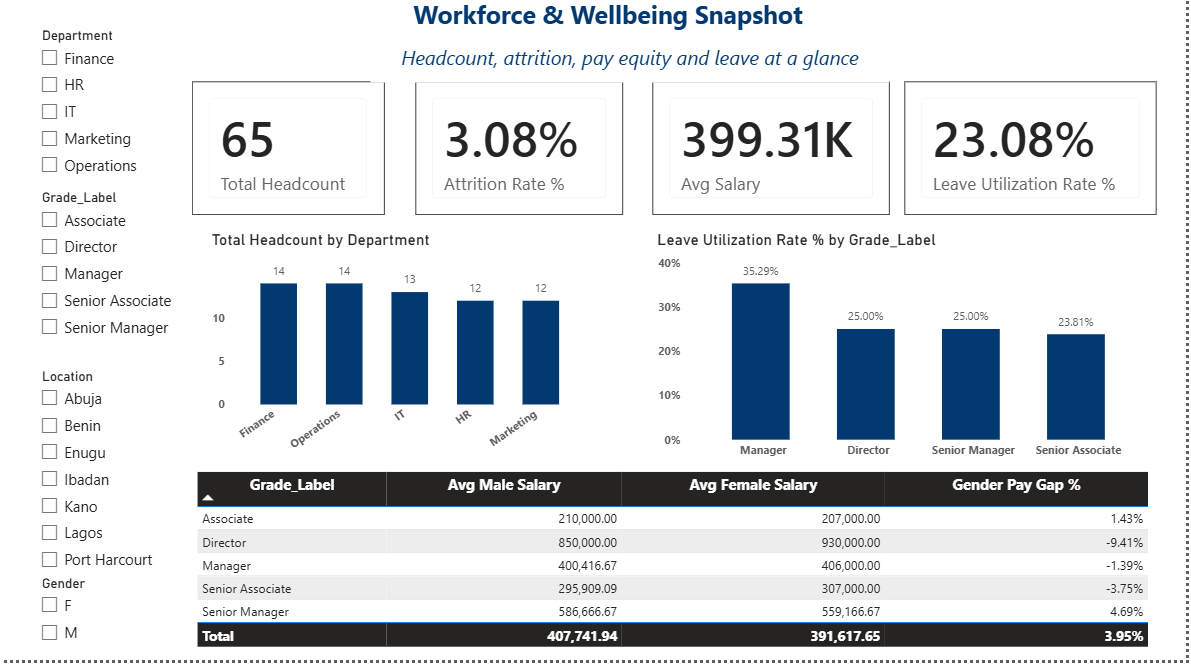

What the dashboard file says about the page in this screenshot:
{"tool":"powerbi","page":{"name":"Snapshot","canvas":[1280,720],"ordinal":0},"visuals":[{"type":"cardVisual","fields":{"Data":["Measure.Total Headcount"]},"box":[272,96,208,144],"z":0},{"type":"clusteredColumnChart","fields":{"Y":["Measure.Exhausted Rate %"],"Category":["Staff_Records.Grade_Label"]},"box":[704,256,544,256],"z":1000},{"type":"clusteredColumnChart","fields":{"Category":["Staff_Records.Department"],"Y":["Measure.Total Headcount"]},"box":[272,256,416,256],"z":2000},{"type":"tableEx","fields":{"Values":["Staff_Records.Grade_Label","Measure.Avg Male Salary","Measure.Avg Female Salary","Measure.Gender Pay Gap %"]},"box":[272,512,976,208],"z":3000},{"type":"cardVisual","fields":{"Data":["Measure.Attrition Rate %"]},"box":[496,96,192,144],"z":4000},{"type":"cardVisual","fields":{"Data":["Measure.Avg Salary"]},"box":[704,96,256,144],"z":5000},{"type":"cardVisual","fields":{"Data":["Measure.Exhausted Rate %"]},"box":[976,96,272,144],"z":6000},{"type":"textbox","box":[160,0,992,48],"z":7000},{"type":"textbox","box":[400,48,560,48],"z":8000},{"type":"slicer","fields":{"Values":["Staff_Records.Department"]},"box":[24,72,216,144],"z":9000},{"type":"slicer","fields":{"Values":["Staff_Records.Location"]},"box":[32,432,192,208],"z":10000},{"type":"slicer","fields":{"Values":["Staff_Records.Grade_Label"]},"box":[24,240,216,192],"z":11000},{"type":"slicer","fields":{"Values":["Staff_Records.Gender"]},"box":[32,640,128,80],"z":12000}]}

Visuals, with their boxes in screenshot pixels (x1, y1, x2, y2), scaled from the page's 1280x720 canvas onto the 1191x666 screenshot:
cardVisual - Measure.Total Headcount: 253:89:447:222
clusteredColumnChart - Measure.Exhausted Rate % x Staff_Records.Grade_Label: 655:237:1161:474
clusteredColumnChart - Staff_Records.Department x Measure.Total Headcount: 253:237:640:474
tableEx - Staff_Records.Grade_Label x Measure.Avg Male Salary: 253:474:1161:665
cardVisual - Measure.Attrition Rate %: 462:89:640:222
cardVisual - Measure.Avg Salary: 655:89:893:222
cardVisual - Measure.Exhausted Rate %: 908:89:1161:222
textbox: 149:0:1072:44
textbox: 372:44:893:89
slicer - Staff_Records.Department: 22:67:223:200
slicer - Staff_Records.Location: 30:400:208:592
slicer - Staff_Records.Grade_Label: 22:222:223:400
slicer - Staff_Records.Gender: 30:592:149:665
